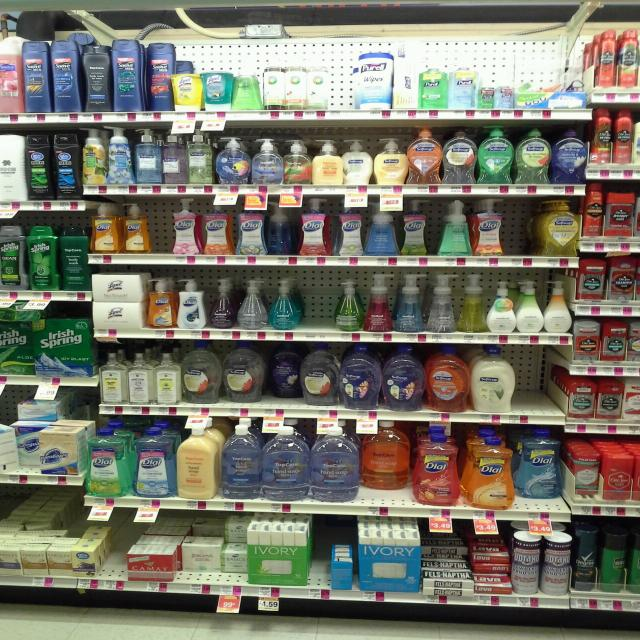void: (523, 344, 567, 416)
